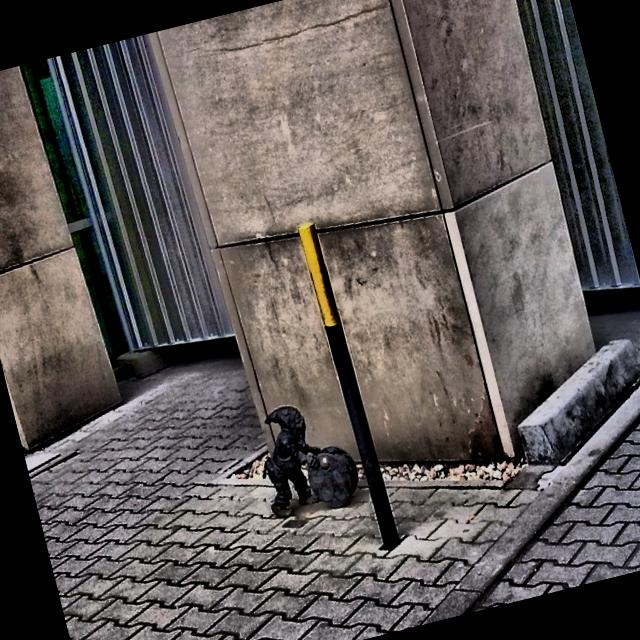Lappek: (262, 405, 358, 516)
